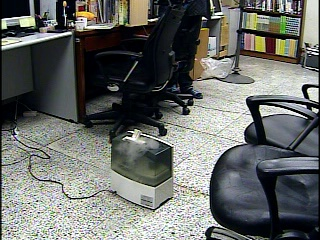smoke: (111, 133, 161, 170)
